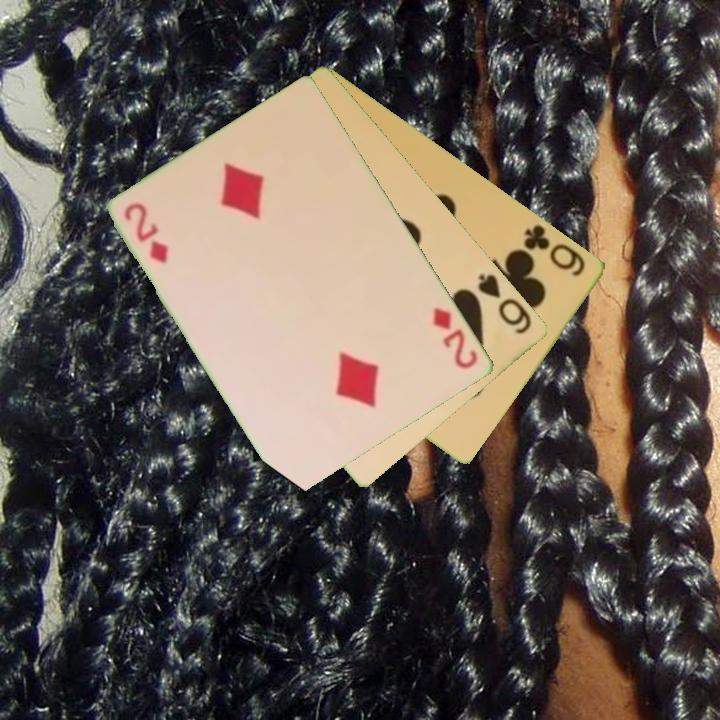2d: (430, 303, 482, 373), (121, 199, 172, 267)
6c: (520, 220, 589, 279)
6s: (475, 270, 535, 337)
